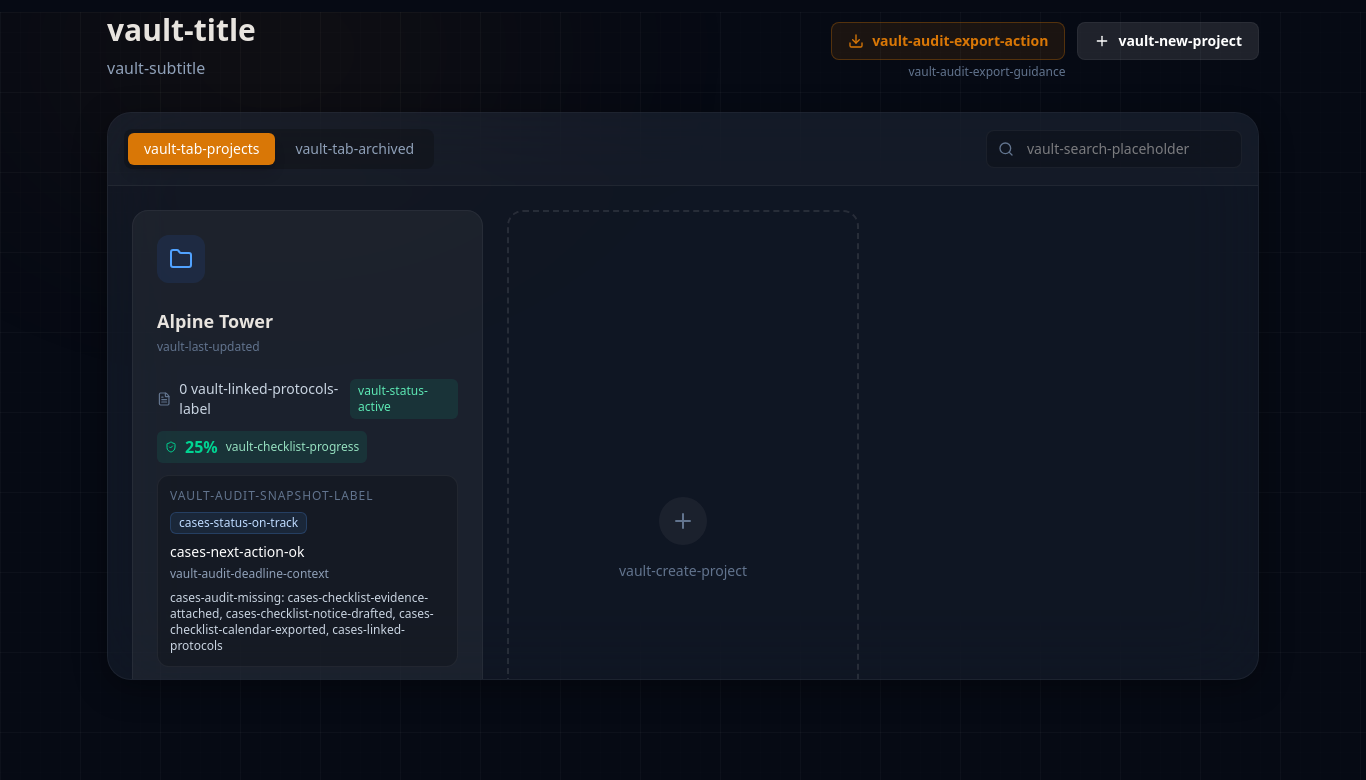
Test case: Vault portfolio audit export › loads one snapshot-consistent owner portfolio and exports it rather than only the active tab
This screenshot has width=1366, height=780.
Expected: the heading "Alpine Tower" is shown, [157,309,273,333]
What coordinates should you click on to do the following:
click the button "vault-audit-export-action"
I would click on:
 (948, 41)
Its box is [831,22,1066,60].
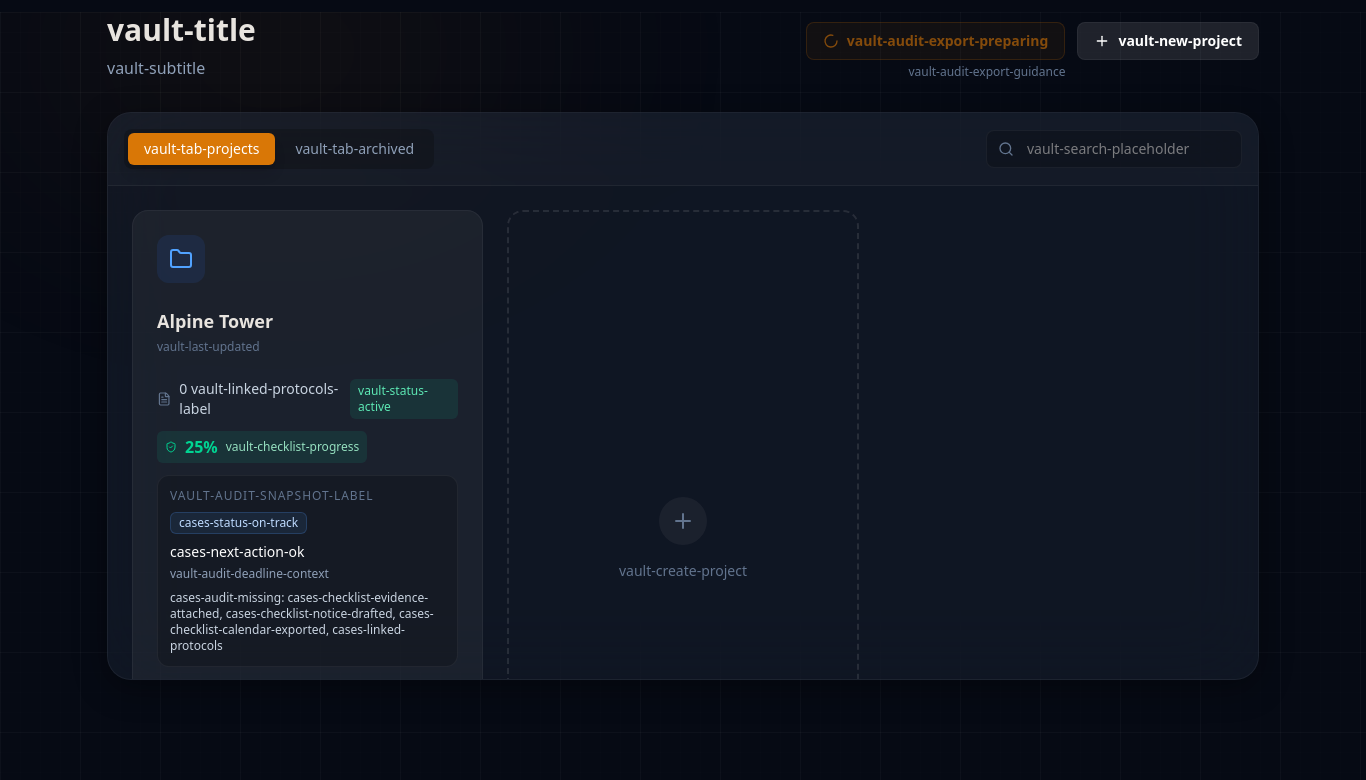
What coordinates should you click on to do the following:
click the button named "vault-audit-export-action"
I would click on:
 (936, 41)
Its box is [806,22,1065,60].
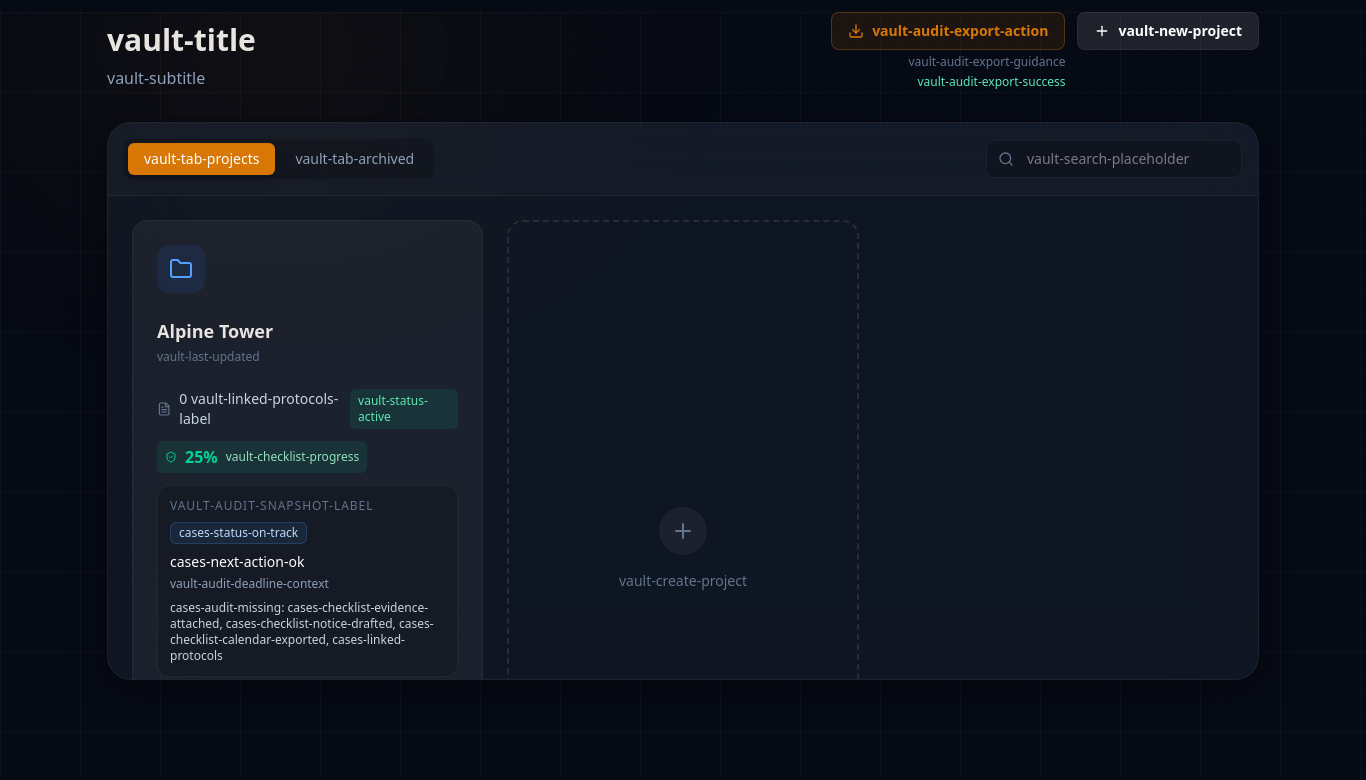
Expected: the text "vault-audit-export-success" is shown, [917,73,1065,90]
